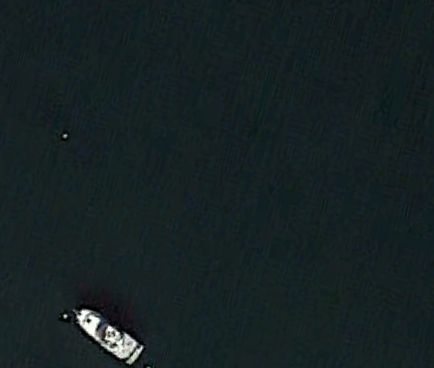boat: (74, 308, 144, 366)
